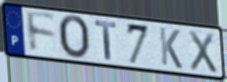7: (124, 22, 152, 66)
F: (24, 9, 58, 55)
K: (157, 25, 184, 71)
O: (56, 14, 91, 61)
T: (93, 20, 118, 62)
X: (187, 28, 219, 75)
